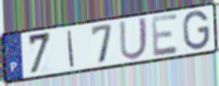7: (27, 31, 52, 76), (90, 23, 115, 65)
E: (150, 11, 180, 58)
G: (181, 9, 211, 52)
I: (66, 29, 76, 68)
U: (118, 15, 149, 62)
